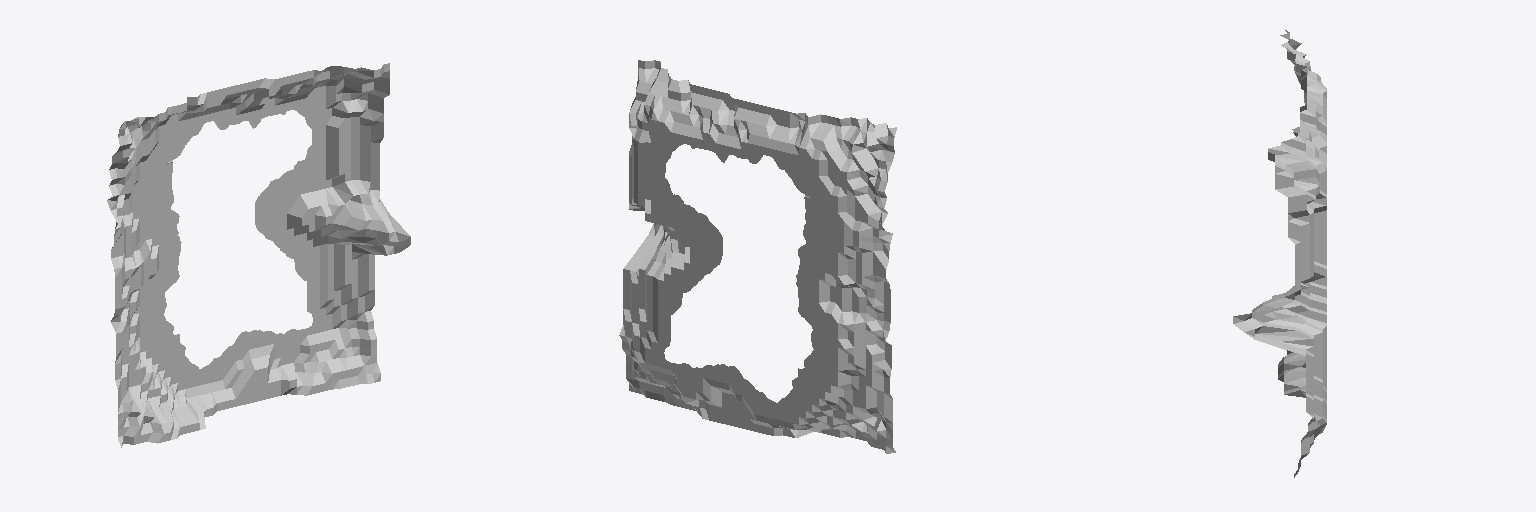
File: moutains3.obj
3 views of the same model, side by side, from view 1: azimuth 30°, elevation 25°; view 2: azimuth 150°, elevation 25°; view 3: azimuth 270°, elevation 25° (orthographic).
Parts seen in each view (by area): view 1: Plane; view 2: Plane; view 3: Plane.
Boxes of the visible parts, x1=… form: Plane: x1=107, y1=63, x2=410, y2=447; Plane: x1=619, y1=60, x2=896, y2=453; Plane: x1=1233, y1=30, x2=1326, y2=477.
Bounding box in the file's own units: 84.93 × 99.98 × 26.